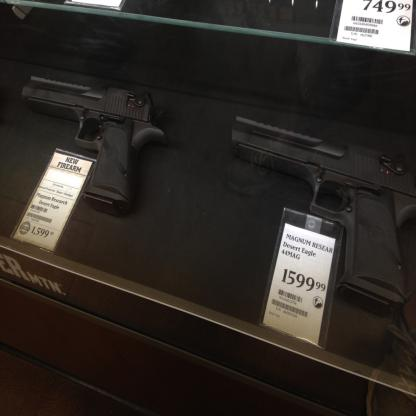Handgun: (231, 115, 416, 316), (22, 75, 166, 216)
